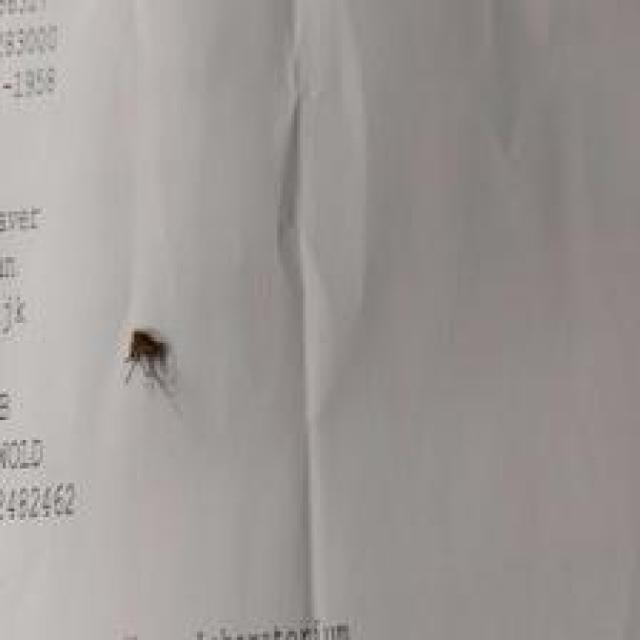Culex: (121, 328, 170, 388)
